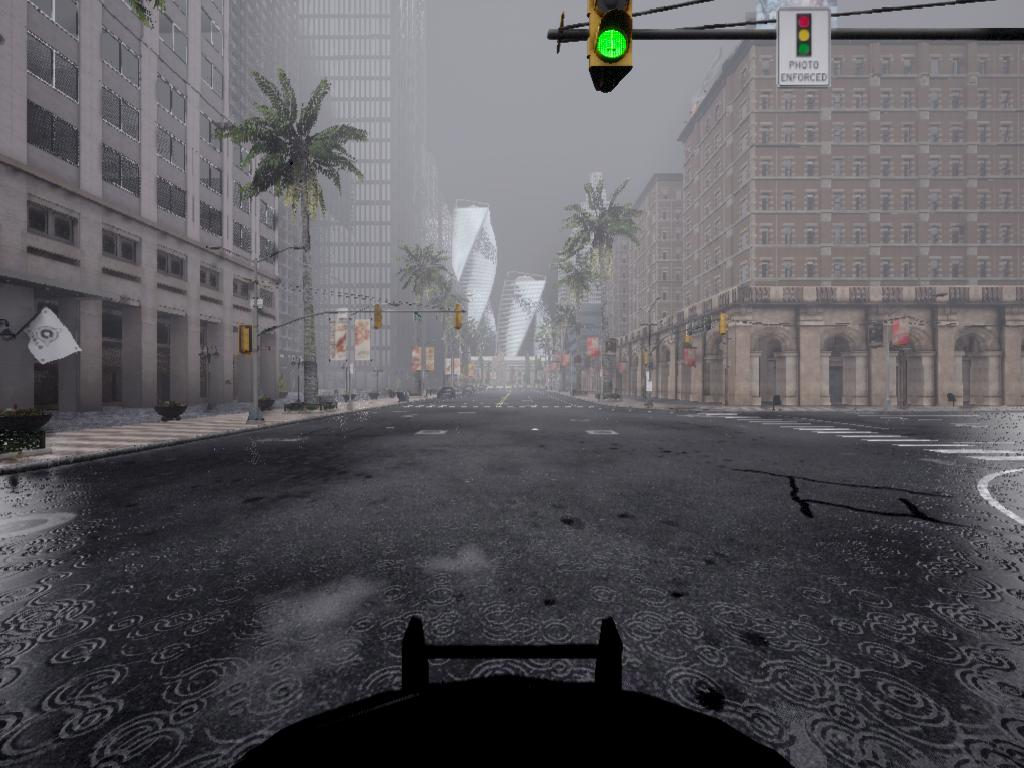traffic_light: (587, 2, 635, 93), (240, 325, 258, 354), (452, 307, 465, 332), (374, 306, 386, 330), (719, 315, 730, 336), (685, 335, 692, 353), (644, 352, 649, 368)
